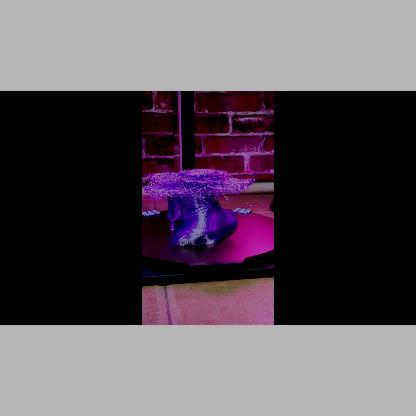fail: (145, 171, 255, 202)
